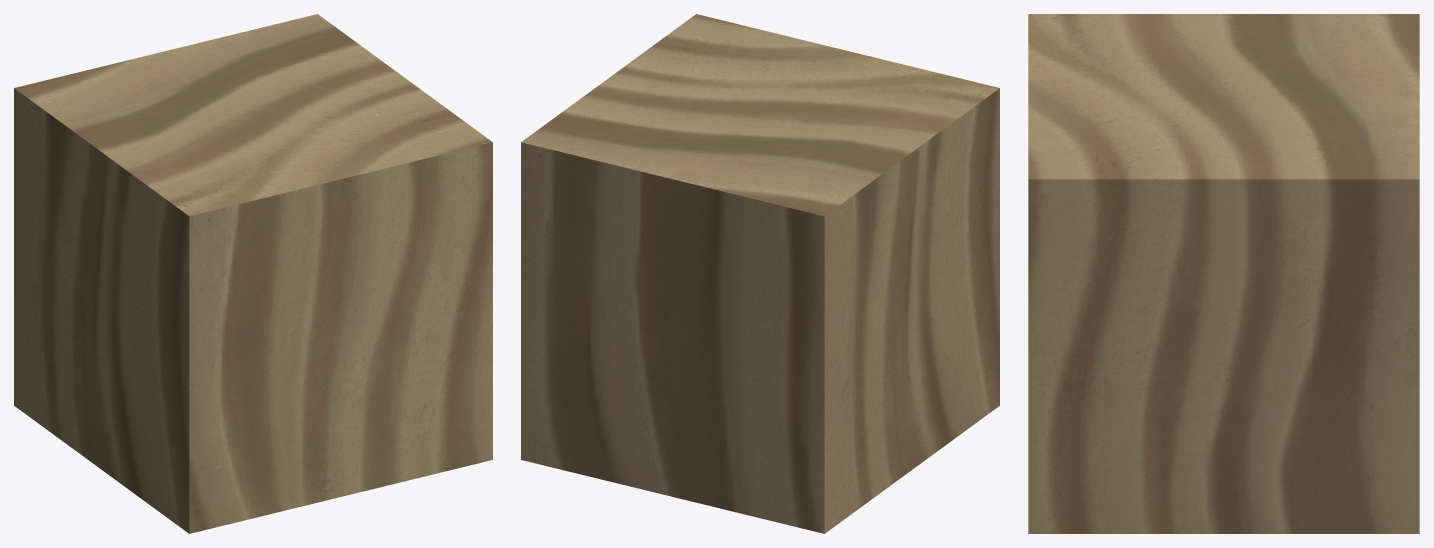
File: key.obj
The picture shows the model from 3 angles, left to right: view 1: azimuth 30°, elevation 25°; view 2: azimuth 150°, elevation 25°; view 3: azimuth 270°, elevation 25°; orthographic projection. The views are drawn at different scales.
Visible parts, largest first — view 1: cBox_cBox_Cube.003; view 2: cBox_cBox_Cube.003; view 3: cBox_cBox_Cube.003.
Boxes of the visible parts, bbox=[...] form: cBox_cBox_Cube.003: bbox=[14, 14, 492, 533]; cBox_cBox_Cube.003: bbox=[521, 14, 999, 533]; cBox_cBox_Cube.003: bbox=[1028, 14, 1419, 533].
Size of the model in its own units: 32.8 by 32.8 by 32.8.
